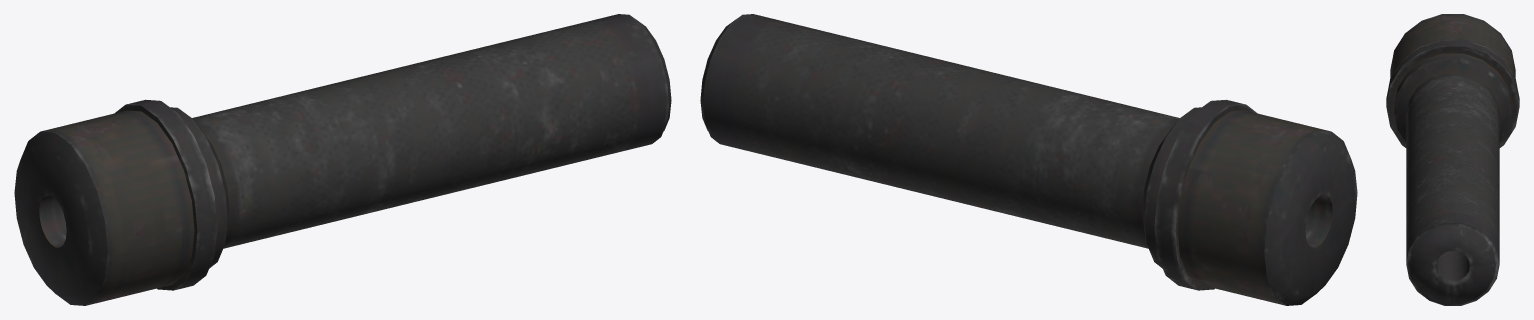
Rendered from ST_Muzzle_Suppressor_AK.FBX.
3 views of the same model, side by side, from view 1: azimuth 30°, elevation 25°; view 2: azimuth 150°, elevation 25°; view 3: azimuth 270°, elevation 25° (orthographic). The views are drawn at different scales.
Visible parts, largest first — view 1: ST_Muzzle_Suppressor_AK; view 2: ST_Muzzle_Suppressor_AK; view 3: ST_Muzzle_Suppressor_AK.
Boxes of the visible parts, x1,y1,x2,y2 form: ST_Muzzle_Suppressor_AK: (14,14,671,305); ST_Muzzle_Suppressor_AK: (700,14,1357,305); ST_Muzzle_Suppressor_AK: (1386,14,1519,305).
Bounding box in the file's own units: 19.42 × 5.41 × 5.5.
1 material, 1 textured.
